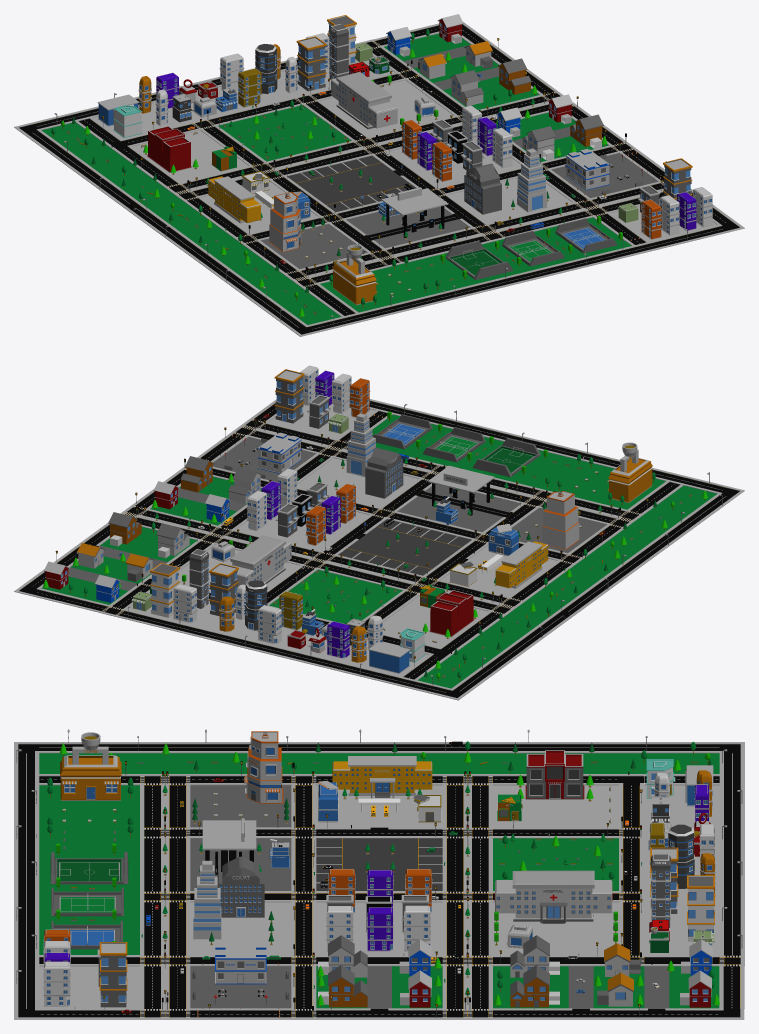
3 renders of one model, top to bottom at view 1: azimuth 30°, elevation 25°; view 2: azimuth 150°, elevation 25°; view 3: azimuth 270°, elevation 25°, orthographic. The views are drawn at different scales.
Visible parts, largest first — view 1: object 255, ORANGE BUILDING3.002_COLOR.010_0, WHITE BUILDING3.004_COLOR.009_0, WHITE BUILDING3.002_COLOR.009_0, ORANGE BUILDING3_COLOR.010_0, WHITE BUILDING3.009_COLOR.009_0, WHITE BUILDING3.005_COLOR.009_0, WHITE BUILDING3.008_COLOR.015_0, ORANGE BUILDING3.001_COLOR.010_0, WHITE BUILDING3_COLOR.015_0, WHITE BUILDING3.007_COLOR.015_0; view 2: object 255, WHITE BUILDING3.001_COLOR.009_0, WHITE BUILDING3.002_COLOR.009_0, ORANGE BUILDING3.001_COLOR.010_0, ORANGE BUILDING3.002_COLOR.010_0, WHITE BUILDING3.009_COLOR.009_0, ORANGE BUILDING3_COLOR.010_0, WHITE BUILDING3.004_COLOR.009_0, GREY BUILDING2_Material.005_0, GREY BUILDING2.003_Material.005_0, WHITE BUILDING3_COLOR.015_0; view 3: object 255, WHITE BUILDING3.005_COLOR.009_0, WHITE BUILDING3.007_COLOR.015_0, WHITE BUILDING3.004_COLOR.009_0, ORANGE BUILDING3_COLOR.010_0, ORANGE BUILDING3.001_COLOR.010_0, WHITE BUILDING3_COLOR.015_0, TOOLS SHOP.001_Material.015_0, WHITE BUILDING3.002_COLOR.009_0.
Boxes of the visible parts, left/top/right/bottom form: object 255: left=14, top=14, right=744, bottom=336; ORANGE BUILDING3.002_COLOR.010_0: left=641, top=199, right=661, bottom=239; WHITE BUILDING3.004_COLOR.009_0: left=492, top=127, right=512, bottom=167; WHITE BUILDING3.002_COLOR.009_0: left=219, top=53, right=244, bottom=90; ORANGE BUILDING3_COLOR.010_0: left=432, top=141, right=452, bottom=181; WHITE BUILDING3.009_COLOR.009_0: left=659, top=195, right=679, bottom=235; WHITE BUILDING3.005_COLOR.009_0: left=693, top=187, right=713, bottom=227; WHITE BUILDING3.008_COLOR.015_0: left=677, top=192, right=696, bottom=230; ORANGE BUILDING3.001_COLOR.010_0: left=402, top=119, right=421, bottom=159; WHITE BUILDING3_COLOR.015_0: left=417, top=131, right=436, bottom=170; WHITE BUILDING3.007_COLOR.015_0: left=477, top=117, right=496, bottom=156; object 255: left=14, top=369, right=744, bottom=700; WHITE BUILDING3.001_COLOR.009_0: left=173, top=584, right=197, bottom=622; WHITE BUILDING3.002_COLOR.009_0: left=257, top=605, right=282, bottom=643; ORANGE BUILDING3.001_COLOR.010_0: left=305, top=505, right=326, bottom=545; ORANGE BUILDING3.002_COLOR.010_0: left=349, top=378, right=370, bottom=417; WHITE BUILDING3.009_COLOR.009_0: left=331, top=373, right=351, bottom=413; ORANGE BUILDING3_COLOR.010_0: left=336, top=483, right=356, bottom=523; WHITE BUILDING3.004_COLOR.009_0: left=277, top=468, right=297, bottom=507; GREY BUILDING2_Material.005_0: left=275, top=503, right=299, bottom=537; GREY BUILDING2.003_Material.005_0: left=307, top=394, right=330, bottom=428; WHITE BUILDING3_COLOR.015_0: left=321, top=495, right=340, bottom=534; object 255: left=14, top=731, right=744, bottom=1019; WHITE BUILDING3.005_COLOR.009_0: left=43, top=961, right=70, bottom=1006; WHITE BUILDING3.007_COLOR.015_0: left=367, top=907, right=393, bottom=951; WHITE BUILDING3.004_COLOR.009_0: left=326, top=906, right=353, bottom=951; ORANGE BUILDING3_COLOR.010_0: left=328, top=869, right=355, bottom=913; ORANGE BUILDING3.001_COLOR.010_0: left=405, top=869, right=432, bottom=912; WHITE BUILDING3_COLOR.015_0: left=367, top=870, right=393, bottom=912; TOOLS SHOP.001_Material.015_0: left=269, top=839, right=289, bottom=867; WHITE BUILDING3.002_COLOR.009_0: left=699, top=824, right=714, bottom=874.
Size of the model in its own units: 468 by 56.3 by 522.
1 material, 1 textured.
